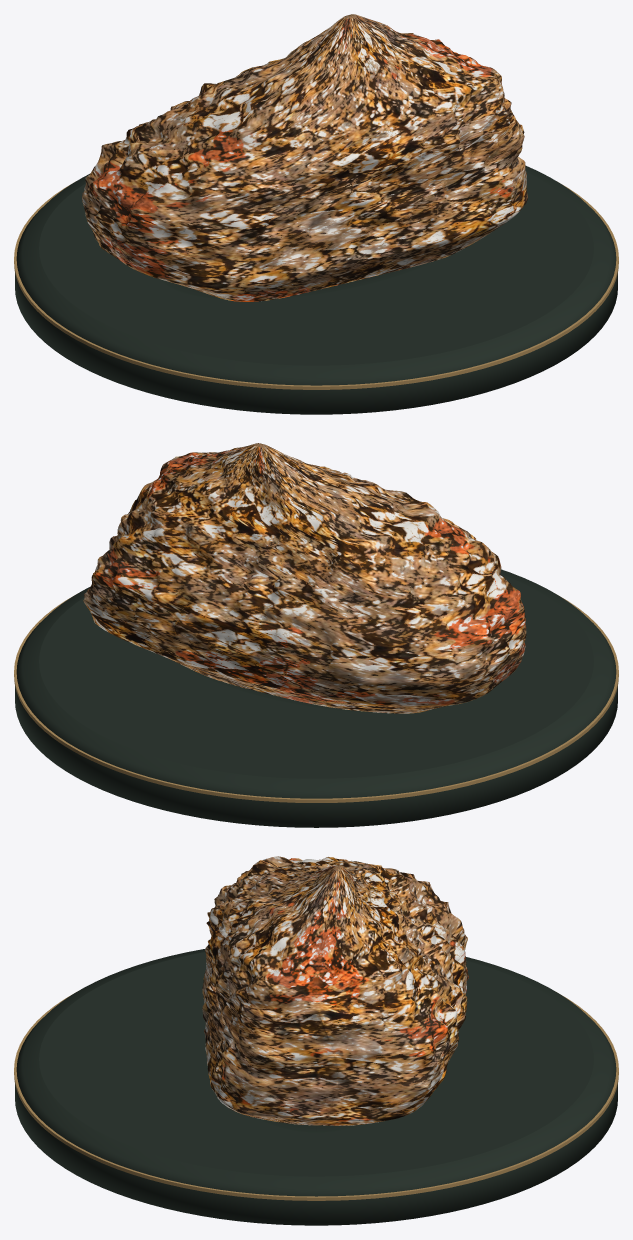
Rendered from lingstone-art-09-v20-b6ae924d6e77.glb.
The picture shows the model from 3 angles, top to bottom: view 1: azimuth 30°, elevation 25°; view 2: azimuth 150°, elevation 25°; view 3: azimuth 270°, elevation 25°; orthographic projection.
Parts seen in each view (by area): view 1: art-0c0e526bb37c6592 concept stone, Centered beveled display plinth, Champagne gold edge; view 2: art-0c0e526bb37c6592 concept stone, Centered beveled display plinth, Champagne gold edge; view 3: Centered beveled display plinth, art-0c0e526bb37c6592 concept stone, Champagne gold edge.
Part boxes in pixels (x1=…): art-0c0e526bb37c6592 concept stone: x1=82, y1=14, x2=527, y2=301; Centered beveled display plinth: x1=15, y1=165, x2=617, y2=414; Champagne gold edge: x1=14, y1=181, x2=618, y2=389; art-0c0e526bb37c6592 concept stone: x1=83, y1=443, x2=526, y2=713; Centered beveled display plinth: x1=15, y1=569, x2=617, y2=827; Champagne gold edge: x1=14, y1=593, x2=618, y2=802; Centered beveled display plinth: x1=15, y1=949, x2=617, y2=1225; art-0c0e526bb37c6592 concept stone: x1=202, y1=856, x2=468, y2=1125; Champagne gold edge: x1=14, y1=995, x2=618, y2=1200.
Size of the model in its own units: 2.47 by 1.16 by 2.47.
4 materials, 1 textured.
